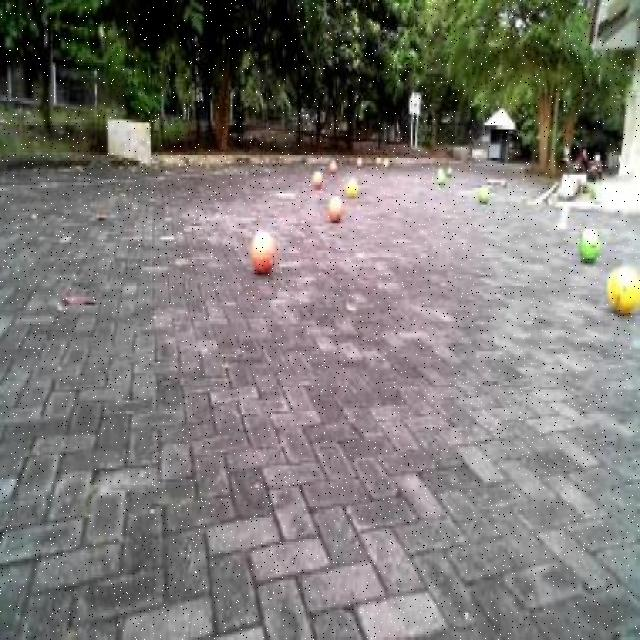buoy: (601, 246, 639, 323), (244, 215, 278, 283), (572, 213, 602, 275), (324, 182, 347, 229), (341, 161, 363, 207), (306, 158, 326, 199), (472, 177, 492, 213), (432, 156, 448, 195)
